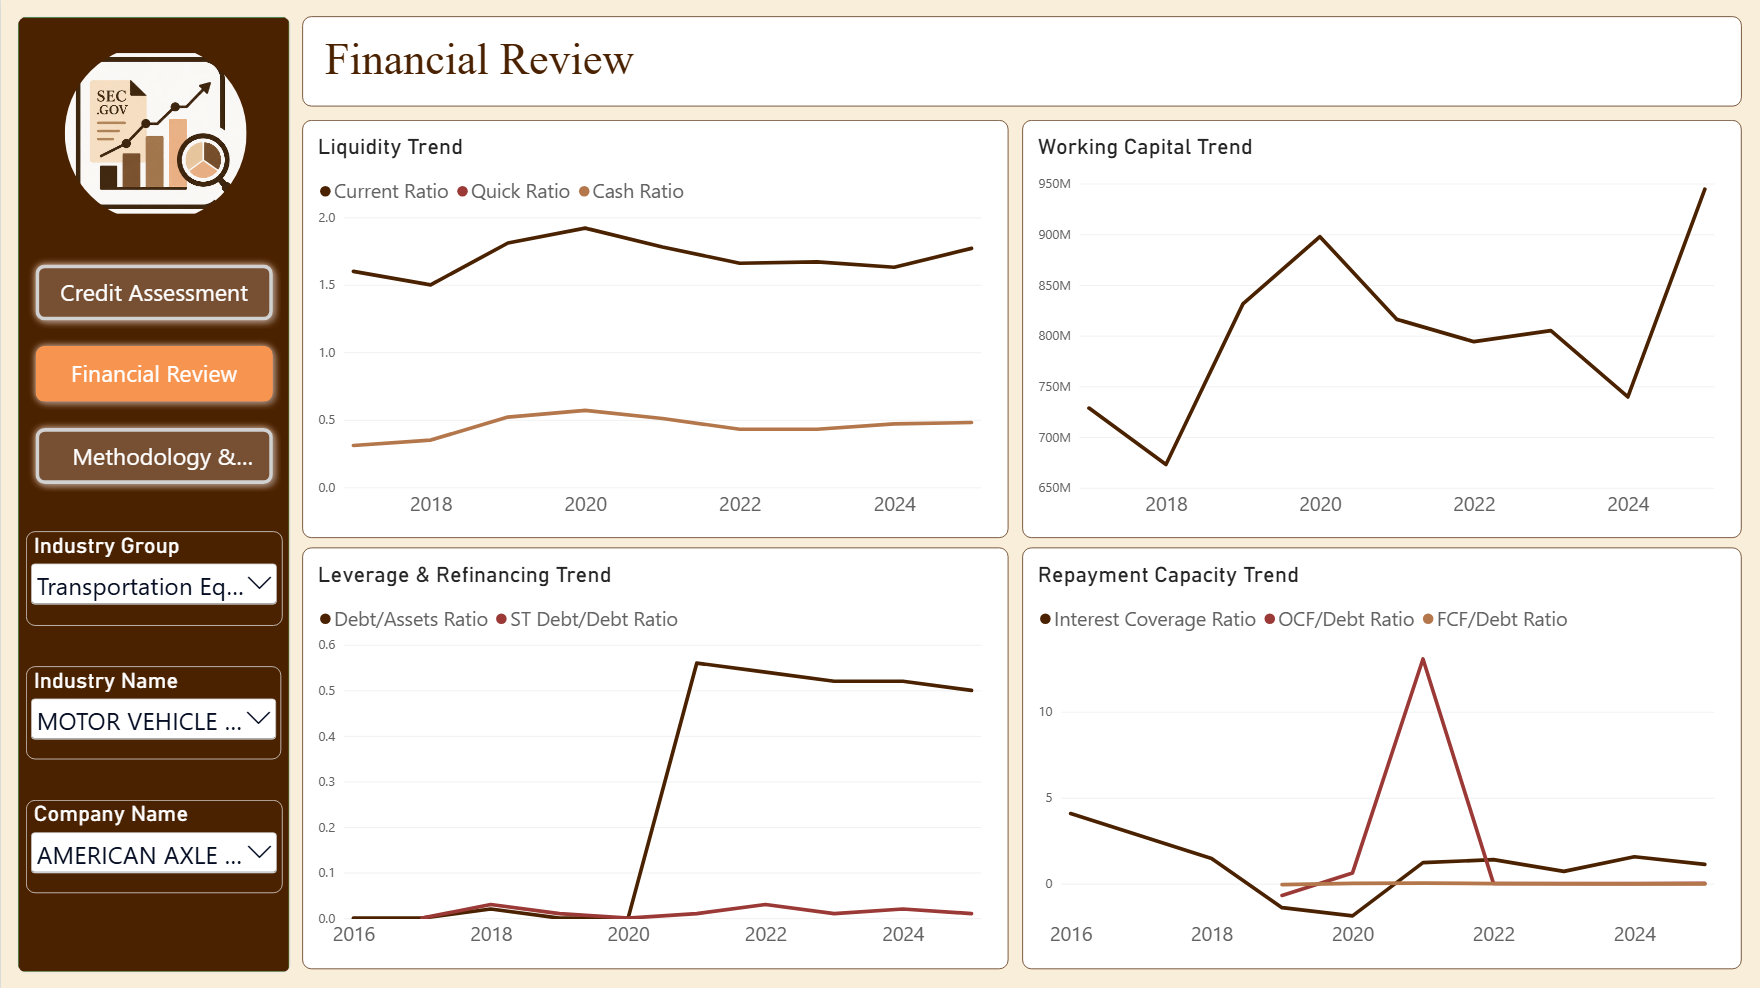

Layout of this report page (visuals, bound fields, positions):
{"tool":"powerbi","page":{"name":"Financial Review","canvas":[1920,1080],"ordinal":1},"visuals":[{"type":"shape","box":[18.2,18.2,298.2,1043.6],"z":0},{"type":"textbox","box":[328,18,1570,98],"z":1000},{"type":"lineChart","title":"Liquidity Trend","fields":{"Category":["gold_dim_date.year"],"Y":["Median(gold_fact_financial_metrics.current_ratio)","Median(gold_fact_financial_metrics.quick_ratio)","Median(gold_fact_financial_metrics.cash_ratio)"]},"box":[328.8,130.8,770.3,456],"z":2000},{"type":"lineChart","title":"Working Capital Trend","fields":{"Category":["gold_dim_date.year"],"Y":["Median(gold_fact_financial_metrics.net_working_capital)"]},"box":[1113.7,130.8,784.9,456],"z":3000},{"type":"lineChart","title":"Repayment Capacity Trend","fields":{"Category":["gold_dim_date.year"],"Y":["Median(gold_fact_financial_metrics.interest_coverage_ratio)","Median(gold_fact_financial_metrics.ocf_debt_ratio)","Median(gold_fact_financial_metrics.fcf_to_debt_ratio)"]},"box":[1113.7,597.7,784.9,459.7],"z":4000},{"type":"lineChart","title":"Leverage & Refinancing Trend","fields":{"Category":["gold_dim_date.year"],"Y":["Median(gold_fact_financial_metrics.debt_to_assets_ratio)","Median(gold_fact_financial_metrics.short_term_debt_ratio)"]},"box":[328.8,597.7,770.3,459.7],"z":5000},{"type":"pageNavigator","box":[29.1,279.8,278,259.8],"z":6000},{"type":"slicer","fields":{"Values":["gold_dim_filing.industry_group"]},"box":[27.3,579.6,279.8,103.6],"z":7000},{"type":"slicer","fields":{"Values":["gold_dim_filing.industry_name"]},"box":[27.3,726.7,278.7,101.3],"z":8000},{"type":"image","box":[69,49.1,198,192.6],"z":9000},{"type":"slicer","fields":{"Values":["gold_dim_filing.company_name"]},"box":[27.3,872.1,279.8,101.7],"z":10000}]}

Visuals, with their boxes on the page's 1920x1080 design canvas (x1, y1, x2, y2). These are canvas units, not pixel positions in the 1760x988 screenshot, which may show the page scaled, cropped or inside an application window:
shape: l=18, t=18, r=316, b=1062
textbox: l=328, t=18, r=1898, b=116
"Liquidity Trend" lineChart: l=329, t=131, r=1099, b=587
"Working Capital Trend" lineChart: l=1114, t=131, r=1899, b=587
"Repayment Capacity Trend" lineChart: l=1114, t=598, r=1899, b=1057
"Leverage & Refinancing Trend" lineChart: l=329, t=598, r=1099, b=1057
pageNavigator: l=29, t=280, r=307, b=540
slicer - gold_dim_filing.industry_group: l=27, t=580, r=307, b=683
slicer - gold_dim_filing.industry_name: l=27, t=727, r=306, b=828
image: l=69, t=49, r=267, b=242
slicer - gold_dim_filing.company_name: l=27, t=872, r=307, b=974
